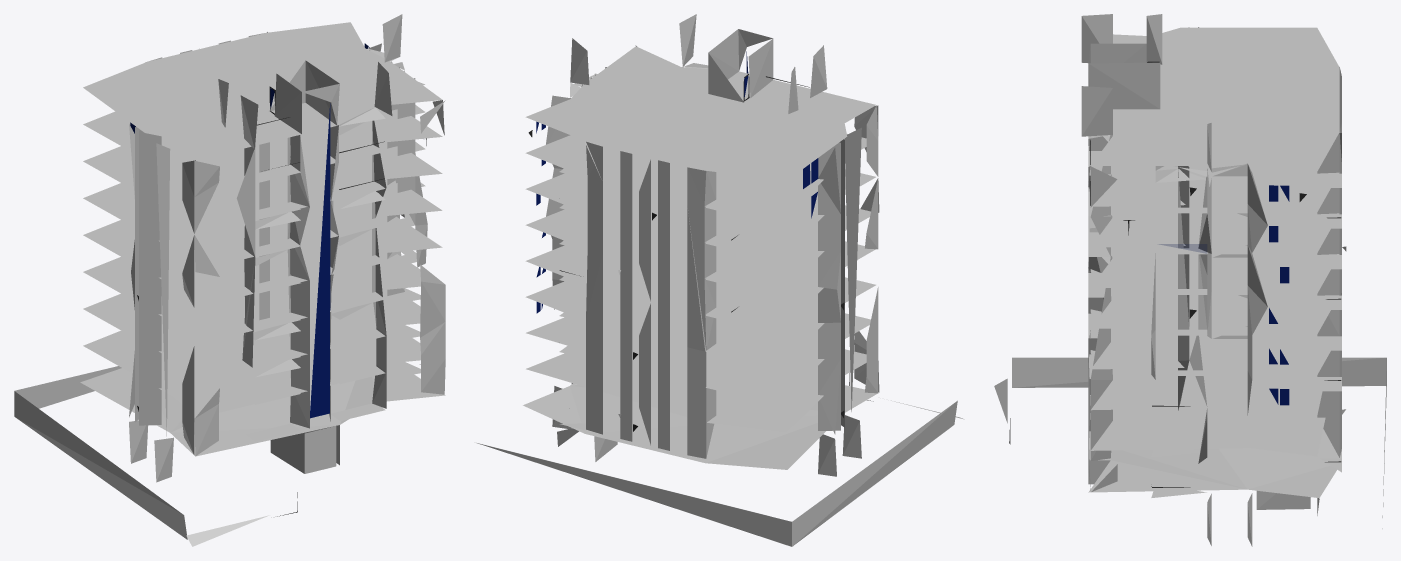
Rendered from sf_apartment_4_lod.glb.
3 views of the same model, side by side, from view 1: azimuth 30°, elevation 25°; view 2: azimuth 150°, elevation 25°; view 3: azimuth 270°, elevation 25° (orthographic). The views are drawn at different scales.
Visible parts, largest first — view 1: Object_4, Object_19; view 2: Object_4, Object_19; view 3: Object_4, Object_19.
Part boxes in pixels (x1,y1,x2,y2): Object_4: (14, 14, 445, 546); Object_19: (130, 43, 369, 418); Object_4: (477, 14, 964, 546); Object_19: (536, 51, 818, 313); Object_4: (994, 14, 1386, 546); Object_19: (1269, 185, 1289, 405).
Size of the model in its own units: 15.94 by 18 by 15.
